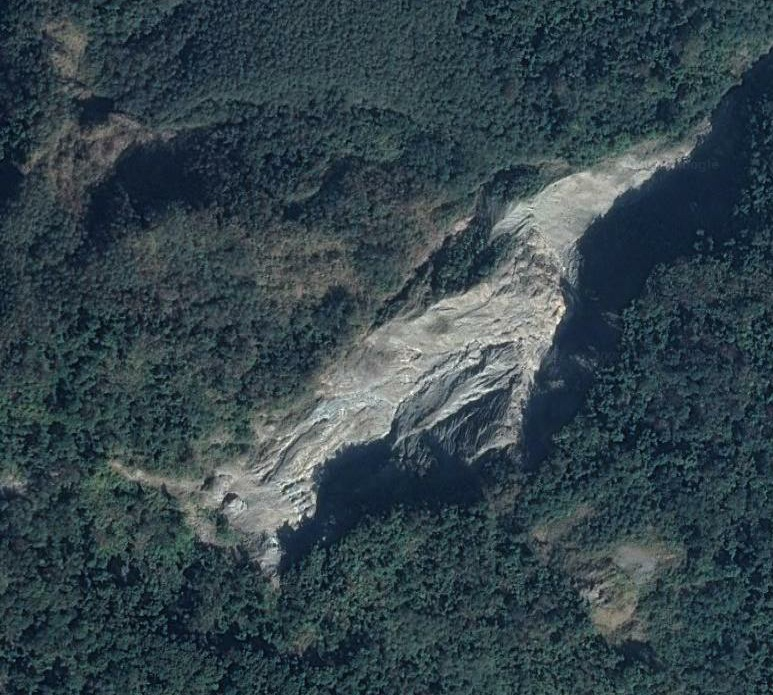slope: (108, 115, 722, 596), (545, 535, 689, 638), (54, 86, 166, 208)
